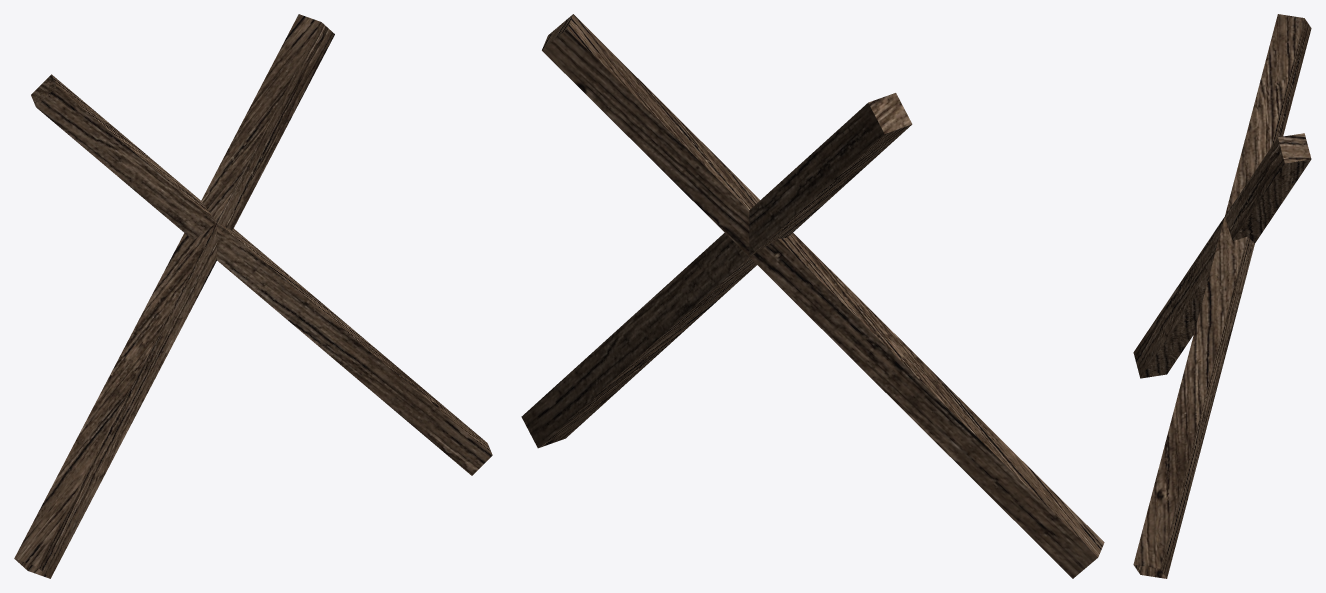
The model's file is prison_cr.FBX.
The picture shows the model from 3 angles, left to right: view 1: azimuth 30°, elevation 25°; view 2: azimuth 150°, elevation 25°; view 3: azimuth 270°, elevation 25°; orthographic projection. The views are drawn at different scales.
Parts seen in each view (by area): view 1: prison_cr; view 2: prison_cr; view 3: prison_cr.
Boxes of the visible parts, x1,y1,x2,y2 form: prison_cr: (14,14,492,578); prison_cr: (521,14,1104,578); prison_cr: (1133,14,1311,578).
Bounding box in the file's own units: 91.68 × 77.78 × 31.3.
